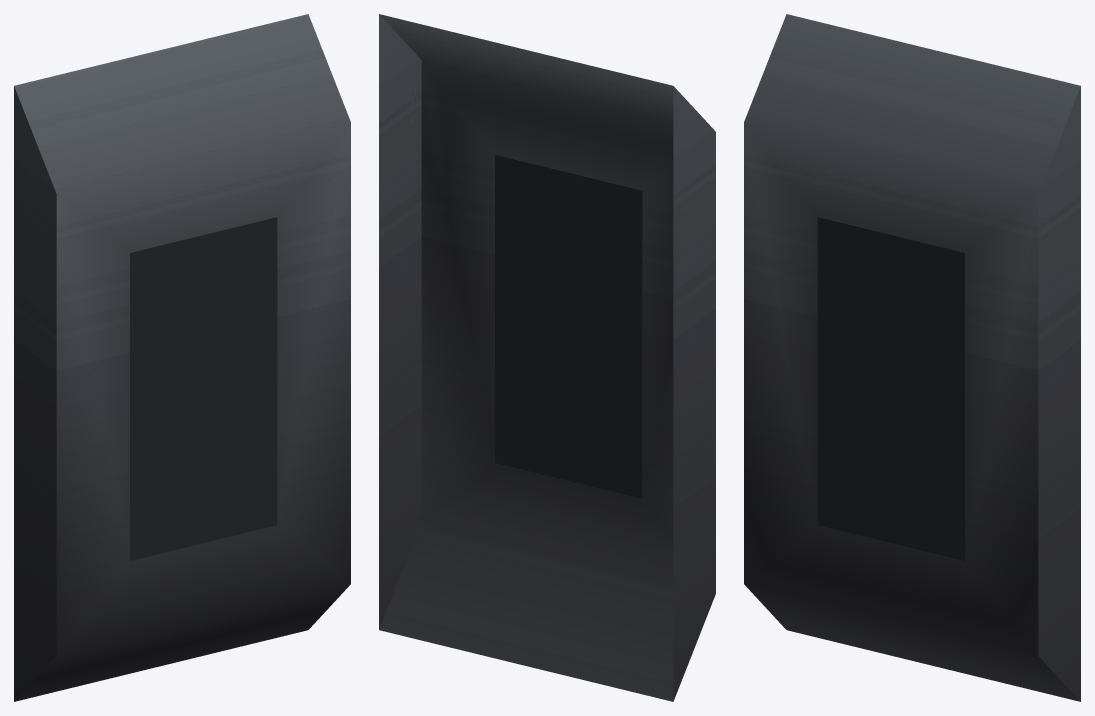
Rendered from s_wall_switch.glb.
The picture shows the model from 3 angles, left to right: view 1: azimuth 30°, elevation 25°; view 2: azimuth 150°, elevation 25°; view 3: azimuth 330°, elevation 25°; orthographic projection.
Parts seen in each view (by area): view 1: wall-switch; view 2: wall-switch; view 3: wall-switch.
Boxes of the visible parts, x1,y1,x2,y2 form: wall-switch: (14,14,350,701); wall-switch: (379,14,715,701); wall-switch: (744,14,1080,701).
Size of the model in its own units: 0.1 by 0.2 by 0.025.
Materials: 1 (1 with a texture image).
